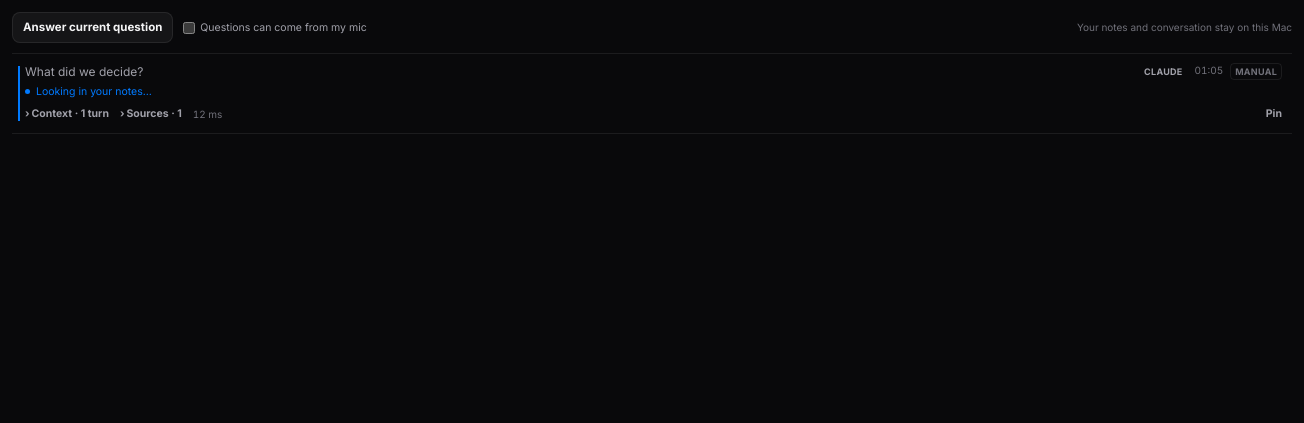
Test: copilot passages render safely › shows a Show more toggle only for long passages and expands on click
Step 1. Click the button "› Sources · 1" → {"x": 151, "y": 114}, box top-left (120, 105), bottom-right (182, 123)
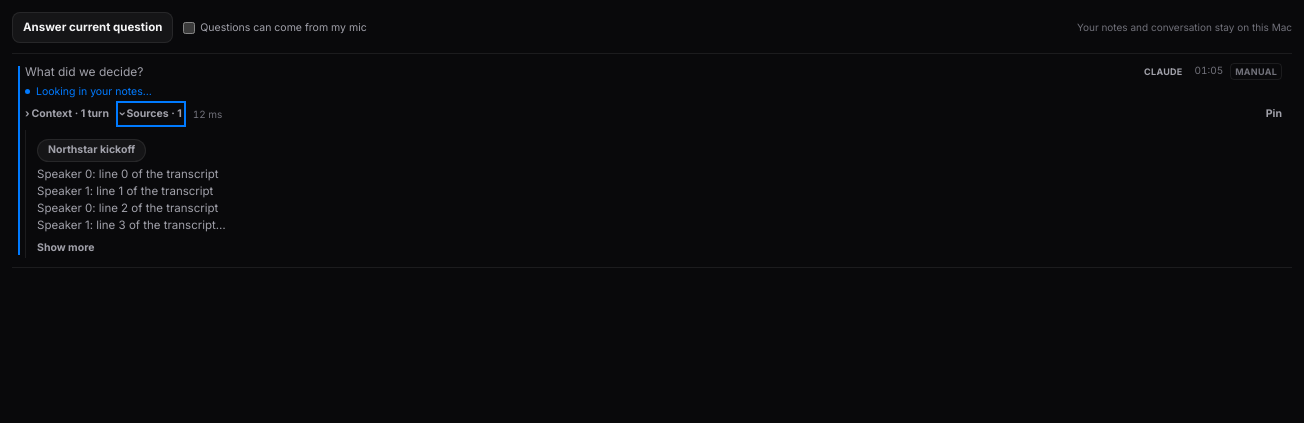
Now the text with class "copilot-passage-text--clamped" is shown, box top-left (37, 166), bottom-right (219, 250)
Step 2. Click the button "Show more" → {"x": 66, "y": 247}, box top-left (37, 238), bottom-right (94, 256)
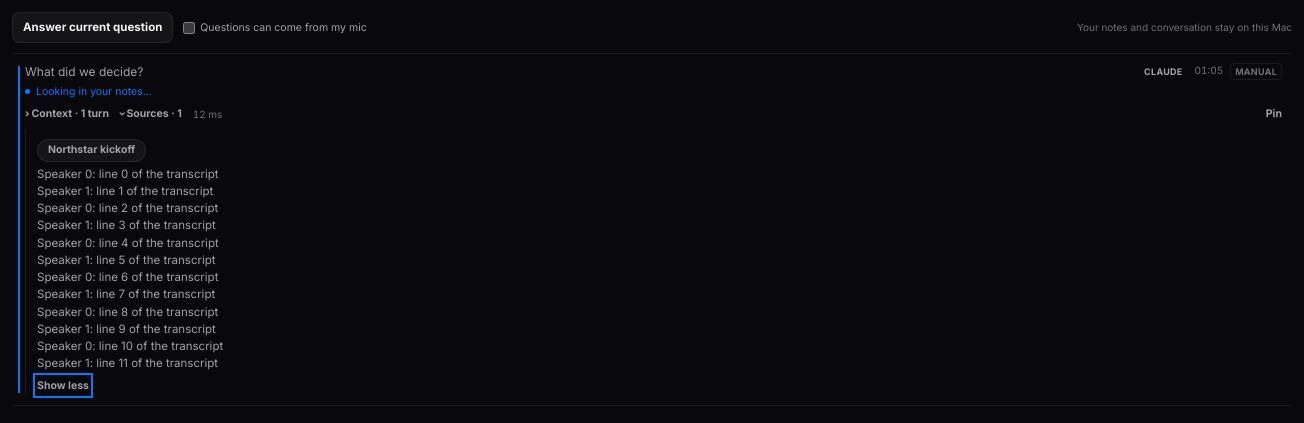
Now the button "Show less" is shown, box top-left (37, 376), bottom-right (89, 394)
